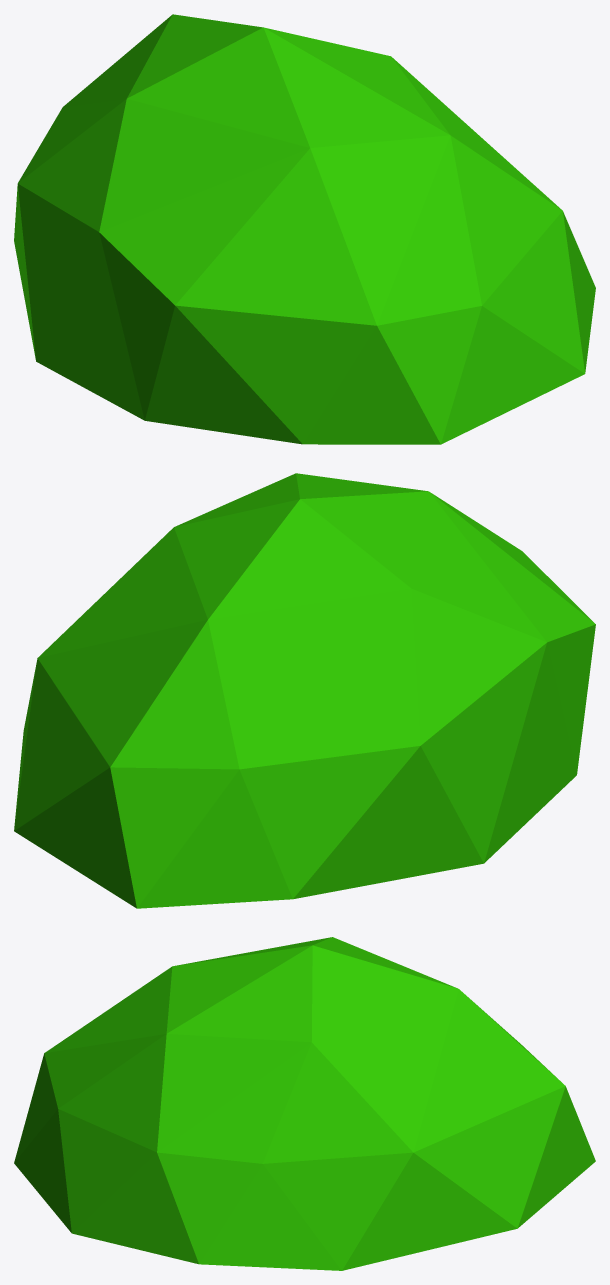
The model's file is Bush3.fbx.
3 renders of one model, top to bottom at view 1: azimuth 30°, elevation 25°; view 2: azimuth 150°, elevation 25°; view 3: azimuth 270°, elevation 25°, orthographic. The views are drawn at different scales.
Parts seen in each view (by area): view 1: Icosphere; view 2: Icosphere; view 3: Icosphere.
Boxes of the visible parts, x1,y1,x2,y2 form: Icosphere: [14, 14, 595, 444]; Icosphere: [14, 473, 595, 908]; Icosphere: [14, 937, 595, 1270].
Size of the model in its own units: 213 by 131 by 288.
